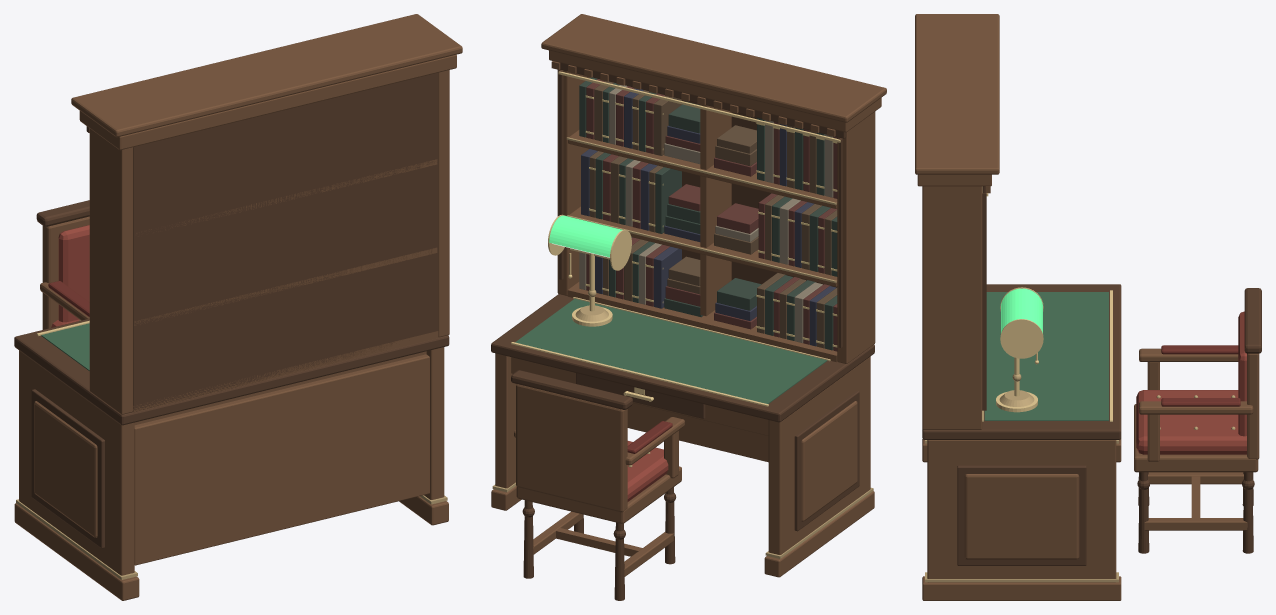
The model's file is lib_nook.glb.
The picture shows the model from 3 angles, left to right: view 1: azimuth 30°, elevation 25°; view 2: azimuth 150°, elevation 25°; view 3: azimuth 270°, elevation 25°; orthographic projection. The views are drawn at different scales.
Parts seen in each view (by area): view 1: lib_nook; view 2: lib_nook; view 3: lib_nook.
Part boxes in pixels (x1,y1,x2,y2): lib_nook: (14,14,462,600); lib_nook: (491,14,886,600); lib_nook: (915,14,1261,600).
Size of the model in its own units: 1.48 by 1.94 by 1.4.
